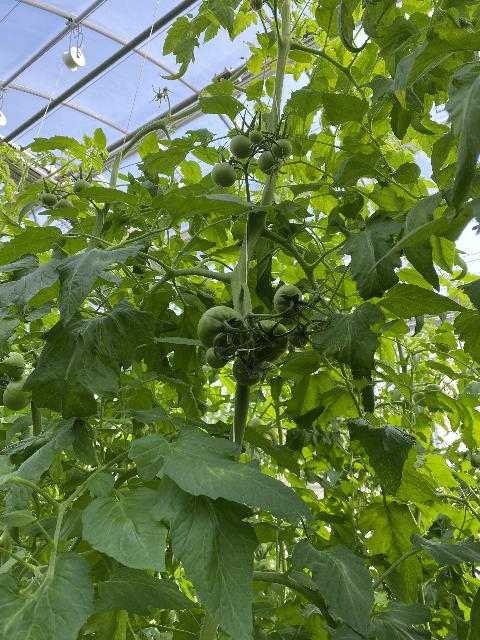b_green: (198, 306, 248, 357), (247, 320, 289, 362), (2, 377, 34, 411), (232, 355, 264, 387), (273, 285, 302, 317), (211, 162, 237, 188), (229, 135, 254, 160), (258, 151, 284, 175), (3, 351, 26, 378), (205, 346, 228, 368), (288, 325, 309, 349), (271, 139, 292, 159), (72, 179, 92, 196), (41, 193, 58, 206), (52, 199, 73, 209), (249, 130, 263, 144), (309, 291, 321, 304)
